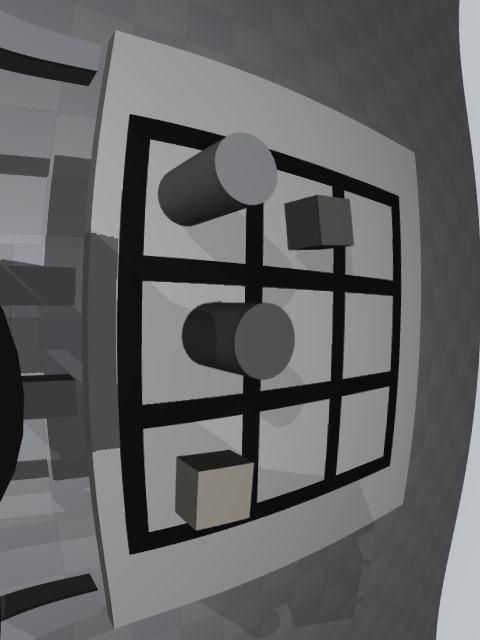can: (158, 132, 277, 226)
cube: (285, 195, 354, 250)
cylinder: (181, 303, 295, 380)
foam: (175, 450, 254, 531)
